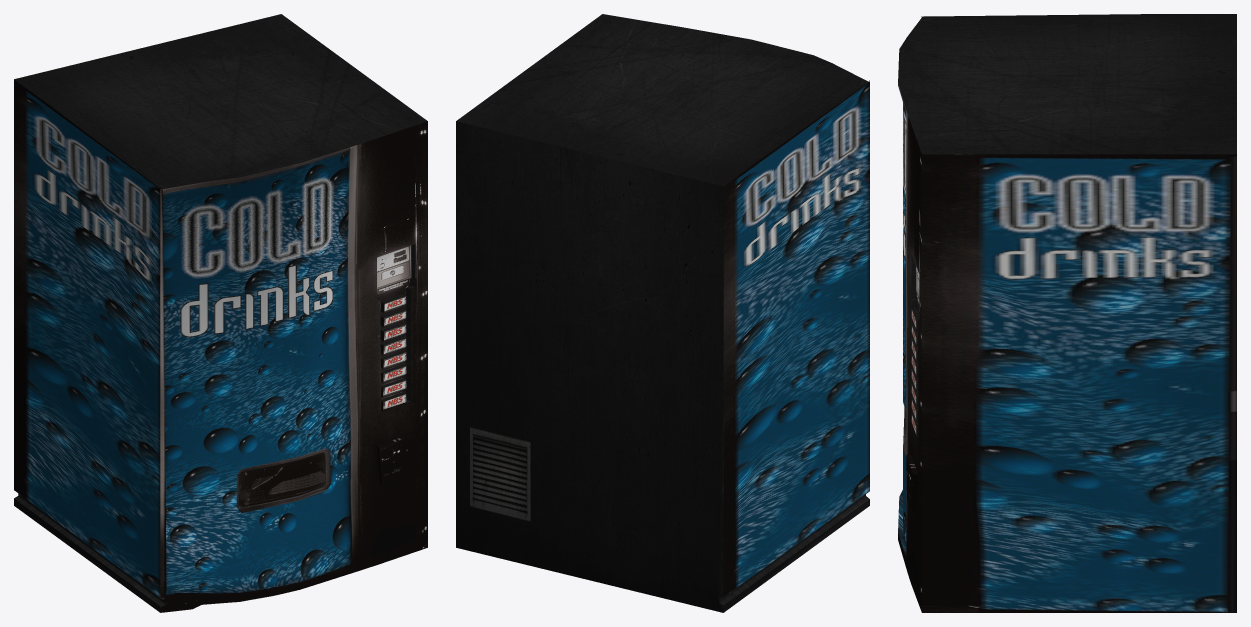
Rendered from katxorro.glb.
3 views of the same model, side by side, from view 1: azimuth 30°, elevation 25°; view 2: azimuth 150°, elevation 25°; view 3: azimuth 270°, elevation 25° (orthographic). The views are drawn at different scales.
Visible parts, largest first — view 1: Object_2; view 2: Object_2; view 3: Object_2.
Boxes of the visible parts, x1,y1,x2,y2 form: Object_2: (14, 14, 427, 612); Object_2: (456, 14, 869, 612); Object_2: (898, 14, 1236, 612).
Bounding box in the file's own units: 8.43 × 12.85 × 8.61.
1 material, 1 textured.
